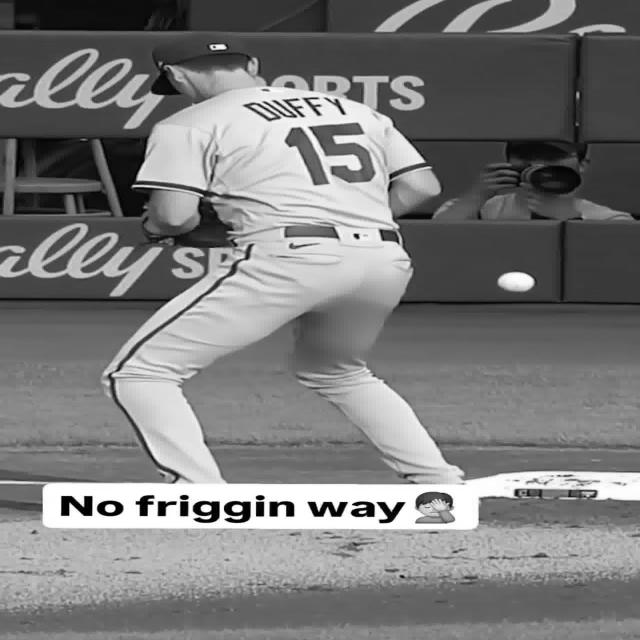base: (467, 471, 640, 500)
baseball: (498, 271, 536, 292)
baseball_glove: (176, 202, 231, 248)
